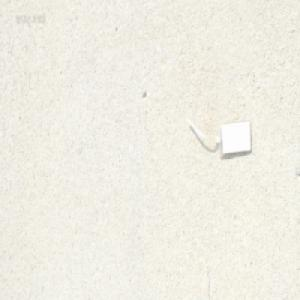LuggageTag: (183, 115, 252, 158)
